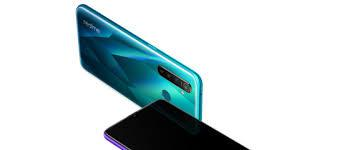Smartphone: (76, 4, 203, 118), (108, 101, 259, 150)
